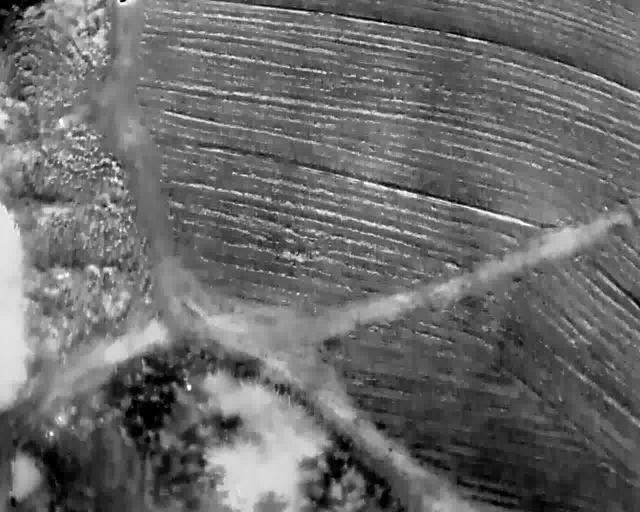person: (82, 26, 90, 36)
